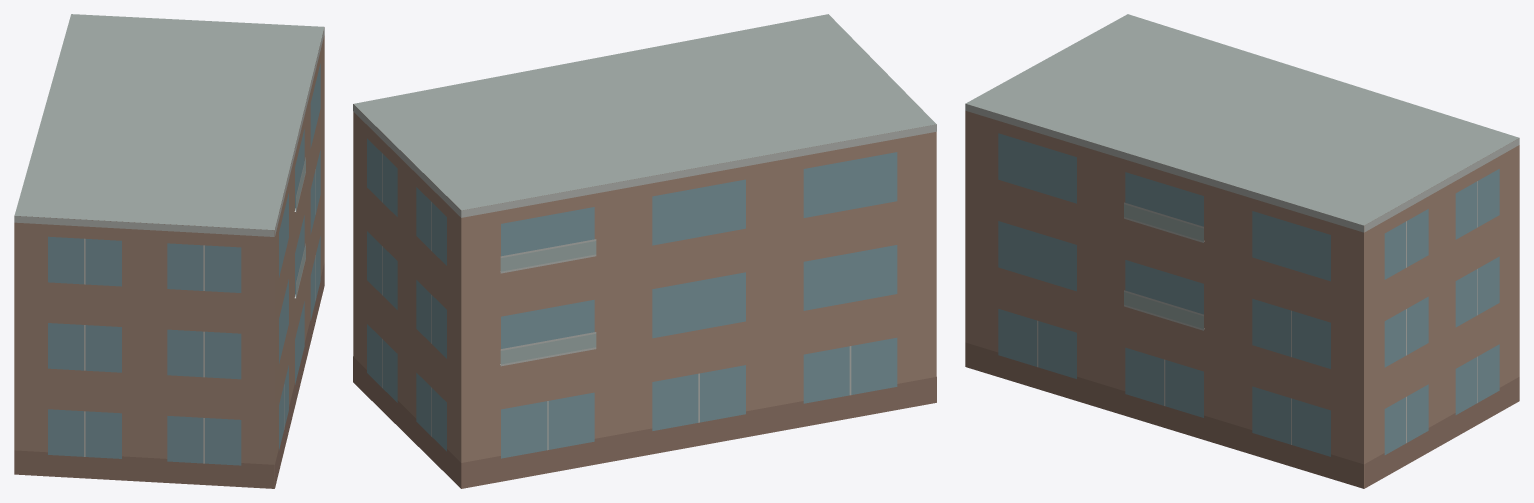
Rendered from survey-upis-32650432.glb.
3 renders of one model, left to right at view 1: azimuth 30°, elevation 25°; view 2: azimuth 150°, elevation 25°; view 3: azimuth 270°, elevation 25°, orthographic. The views are drawn at different scales.
Visible parts, largest first — view 1: survey-upis-32650432.tmp; view 2: survey-upis-32650432.tmp; view 3: survey-upis-32650432.tmp.
Part boxes in pixels (bbox=[...]): survey-upis-32650432.tmp: bbox=[14, 14, 324, 488]; survey-upis-32650432.tmp: bbox=[353, 14, 936, 488]; survey-upis-32650432.tmp: bbox=[965, 14, 1519, 488].
Size of the model in its own units: 15.78 by 9.15 by 17.47.
